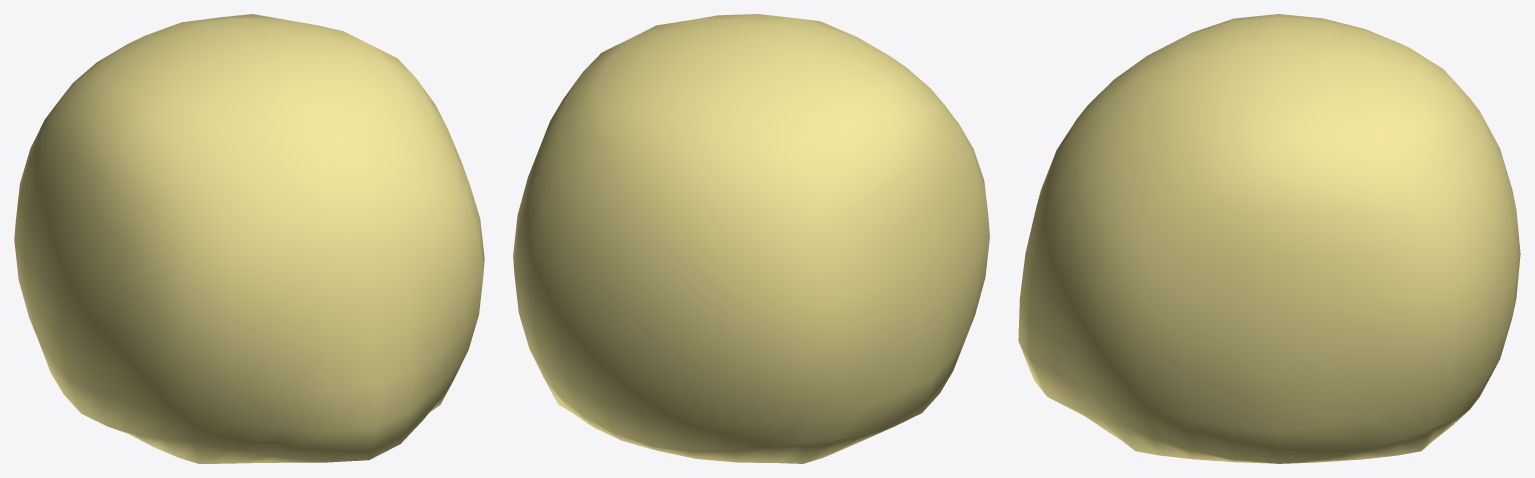
File: MEsfera.FBX
3 views of the same model, side by side, from view 1: azimuth 30°, elevation 25°; view 2: azimuth 150°, elevation 25°; view 3: azimuth 270°, elevation 25° (orthographic). The views are drawn at different scales.
Visible parts, largest first — view 1: Object002; view 2: Object002; view 3: Object002.
Part boxes in pixels (x1,y1,x2,y2): Object002: (14, 14, 484, 463); Object002: (513, 14, 989, 463); Object002: (1018, 14, 1520, 463).
Bounding box in the file's own units: 1.03 × 0.874 × 1.15.
